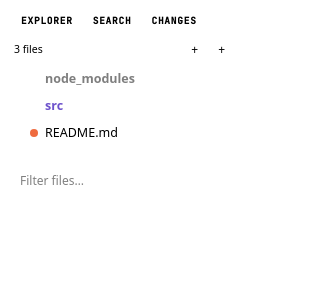
Test: D334 the Explorer’s header and filter › filters the file list by a case-insensitive substring, flat, each by its full path
The image size is (320, 293).
Check: the text "3 files" is shown, box [14,42,43,58]
Type "MATH" into the field labelled "Filter files" at (124, 181), box [10,166,238,196]
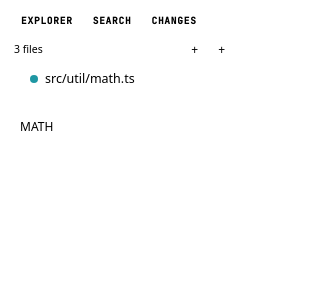
Check: the list items read "src/util/math.ts", in this order
Click the list item with test id "tree-item-src/util/math.ts" at (82, 78), box [30,70,135,86]
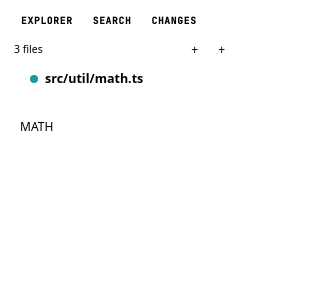
Check: the text "src/util/math.ts" is shown, box [45,70,143,86]
Clear the field named "Filter files" at (124, 127), box [10,112,238,142]
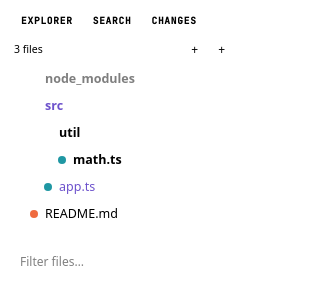
Type "nothing-like-it" into the field labelled "Filter files" at (124, 262), box [10,247,238,277]
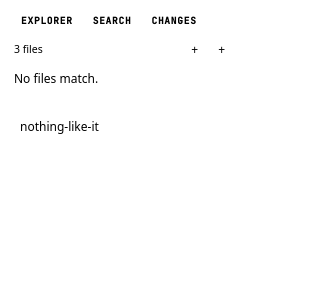
Check: the text "No files match." is shown, box [14,70,98,87]
Clear the field named "Filter files" at (124, 127), box [10,112,238,142]
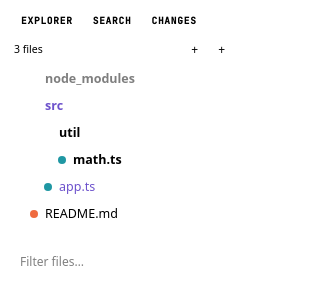
Check: the list item with test id "tree-item-src" is shown, box [45,96,63,114]
